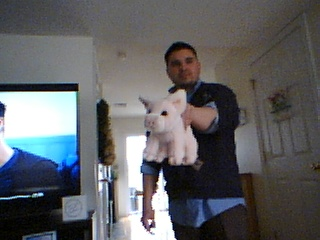piggy: (136, 88, 199, 167)
